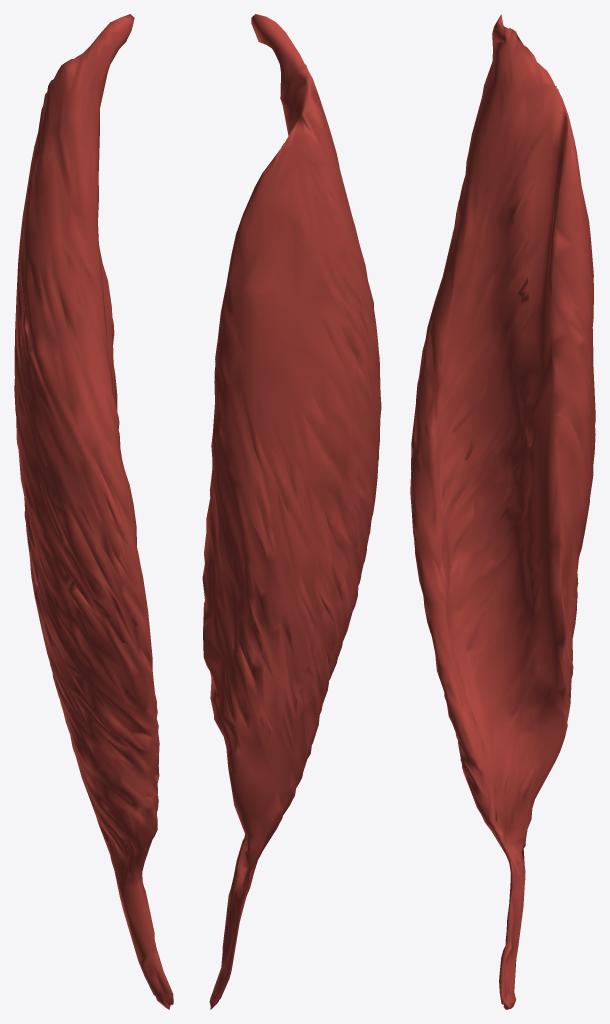
Rendered from musculos-vastus-lateralis-muscle-r.glb.
3 renders of one model, left to right at view 1: azimuth 30°, elevation 25°; view 2: azimuth 150°, elevation 25°; view 3: azimuth 270°, elevation 25°, orthographic. The views are drawn at different scales.
Visible parts, largest first — view 1: Vastus lateralis muscle.r; view 2: Vastus lateralis muscle.r; view 3: Vastus lateralis muscle.r.
Part boxes in pixels (bbox=[...]): Vastus lateralis muscle.r: bbox=[14, 14, 173, 1009]; Vastus lateralis muscle.r: bbox=[202, 14, 381, 1009]; Vastus lateralis muscle.r: bbox=[410, 14, 595, 1009].
Bounding box in the file's own units: 0.074 × 0.4572 × 0.0792.
